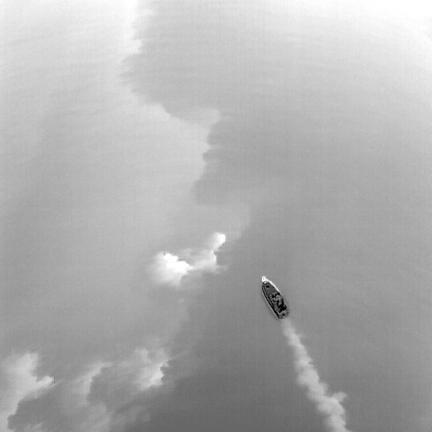flukeprints: (157, 252, 192, 284), (199, 232, 225, 271)
